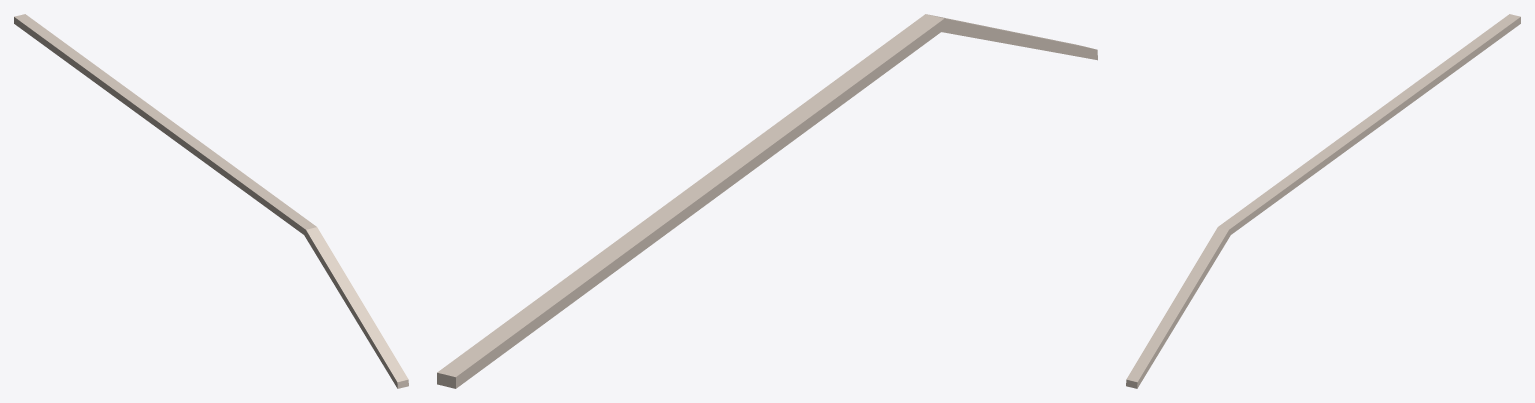
File: ForceWallUp 1.fbx
3 renders of one model, left to right at view 1: azimuth 30°, elevation 25°; view 2: azimuth 150°, elevation 25°; view 3: azimuth 330°, elevation 25°, orthographic. The views are drawn at different scales.
Parts seen in each view (by area): view 1: FWPart2; view 2: FWPart2; view 3: FWPart2.
Part boxes in pixels (x1,y1,x2,y2): FWPart2: (14, 14, 408, 388); FWPart2: (437, 14, 1097, 388); FWPart2: (1126, 14, 1520, 388).
Bounding box in the file's own units: 1.35 × 10.55 × 79.71.
